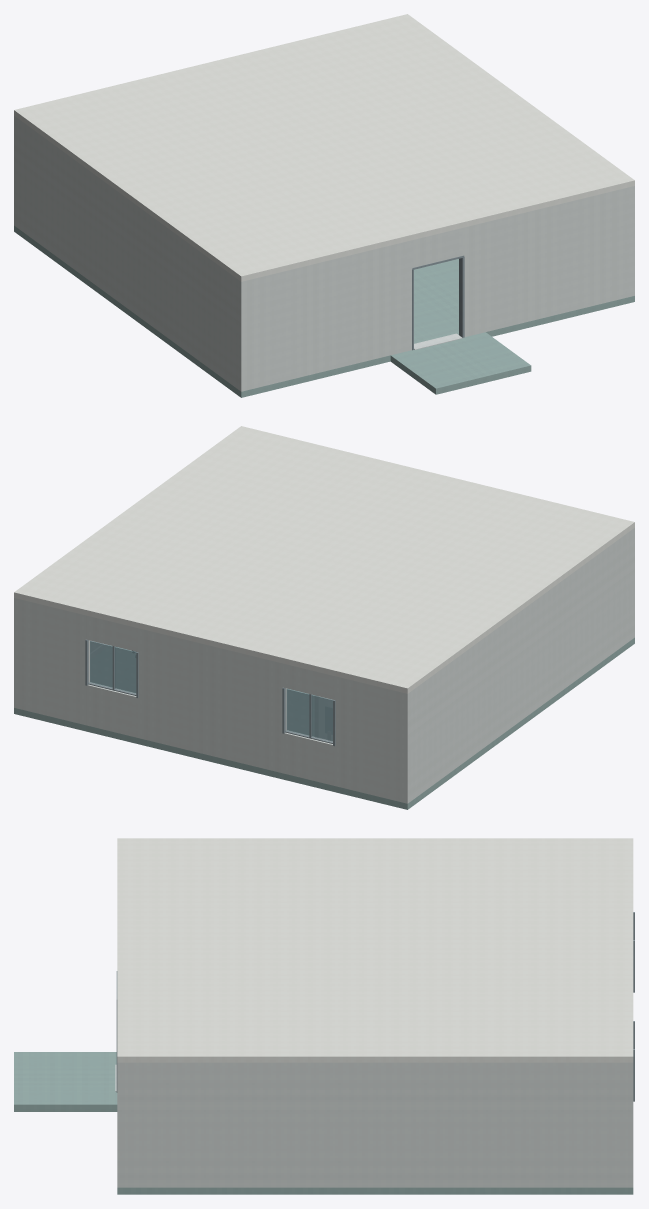
3 views of the same model, one above another, from view 1: azimuth 30°, elevation 25°; view 2: azimuth 150°, elevation 25°; view 3: azimuth 270°, elevation 25° (orthographic). The views are drawn at different scales.
Parts seen in each view (by area): view 1: VIS_ceiling_slab, VIS_wall_west, VIS_front_wall_west, VIS_front_wall_east, VIS_floor_slab, VIS_entry_walkway, VIS_front_header; view 2: VIS_ceiling_slab, VIS_wall_west, VIS_rear_wall_2, VIS_rear_wall_0, VIS_rear_wall_4, VIS_floor_slab, VIS_rear_sill_0, VIS_rear_sill_1, VIS_window_glass_0, VIS_window_glass_1, VIS_rear_header_1, VIS_rear_header_0; view 3: VIS_ceiling_slab, VIS_wall_east, VIS_entry_walkway, VIS_floor_slab, VIS_rear_wall_4, VIS_front_wall_east.
Boxes of the visible parts, <box> form: VIS_ceiling_slab: <box>14,14,634,281</box>; VIS_wall_west: <box>17,118,237,388</box>; VIS_front_wall_west: <box>238,240,413,391</box>; VIS_front_wall_east: <box>462,186,634,336</box>; VIS_floor_slab: <box>14,225,634,397</box>; VIS_entry_walkway: <box>390,332,531,394</box>; VIS_front_header: <box>413,228,462,267</box>; VIS_ceiling_slab: <box>14,426,634,693</box>; VIS_wall_west: <box>411,530,631,800</box>; VIS_rear_wall_2: <box>138,628,286,773</box>; VIS_rear_wall_0: <box>334,676,410,803</box>; VIS_rear_wall_4: <box>14,598,89,725</box>; VIS_floor_slab: <box>14,637,634,809</box>; VIS_rear_sill_0: <box>284,732,334,785</box>; VIS_rear_sill_1: <box>87,684,137,737</box>; VIS_window_glass_0: <box>286,689,332,741</box>; VIS_window_glass_1: <box>90,641,136,693</box>; VIS_rear_header_1: <box>87,615,137,651</box>; VIS_rear_header_0: <box>284,664,334,699</box>; VIS_ceiling_slab: <box>117,838,633,1062</box>; VIS_wall_east: <box>125,1062,625,1187</box>; VIS_entry_walkway: <box>14,1052,117,1111</box>; VIS_floor_slab: <box>117,1187,633,1194</box>; VIS_rear_wall_4: <box>625,1062,633,1187</box>; VIS_front_wall_east: <box>117,1062,124,1187</box>.
Bounding box in the file's own units: 12 × 3.54 × 14.44.
11 materials, 11 textured.
